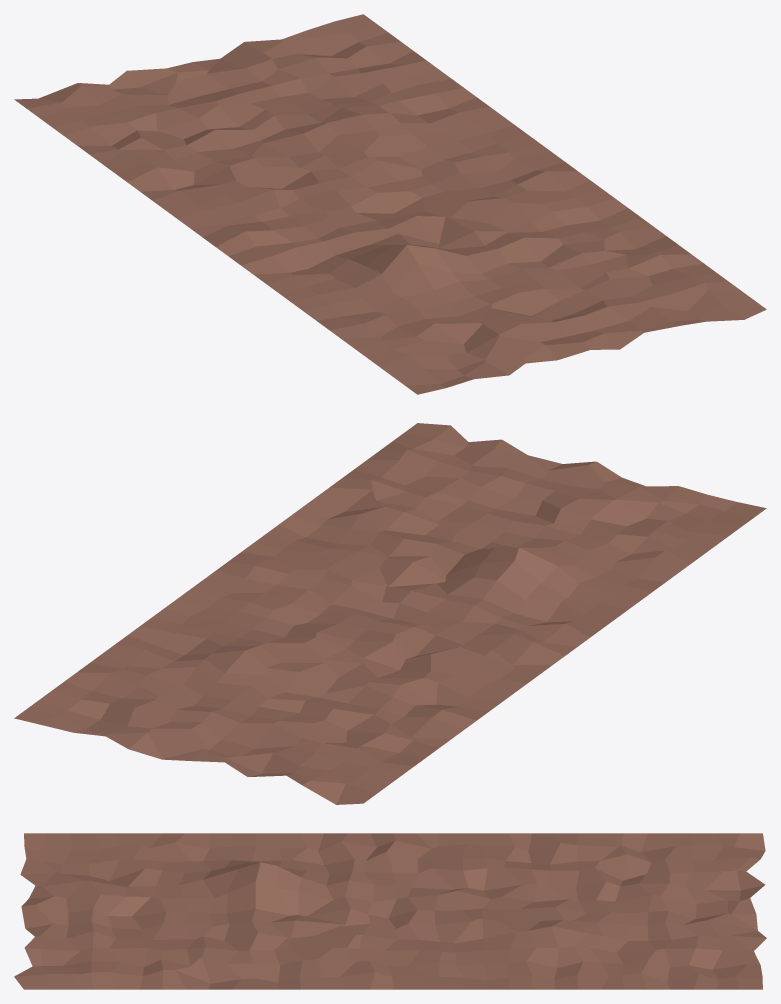
The model's file is Bed.fbx.
3 views of the same model, one above another, from view 1: azimuth 30°, elevation 25°; view 2: azimuth 150°, elevation 25°; view 3: azimuth 270°, elevation 25° (orthographic). The views are drawn at different scales.
Parts seen in each view (by area): view 1: Bed; view 2: Bed; view 3: Bed.
Boxes of the visible parts, x1,y1,x2,y2 form: Bed: (14, 14, 766, 394); Bed: (14, 423, 766, 804); Bed: (14, 833, 766, 989).
Bounding box in the file's own units: 50 × 4.69 × 102.
